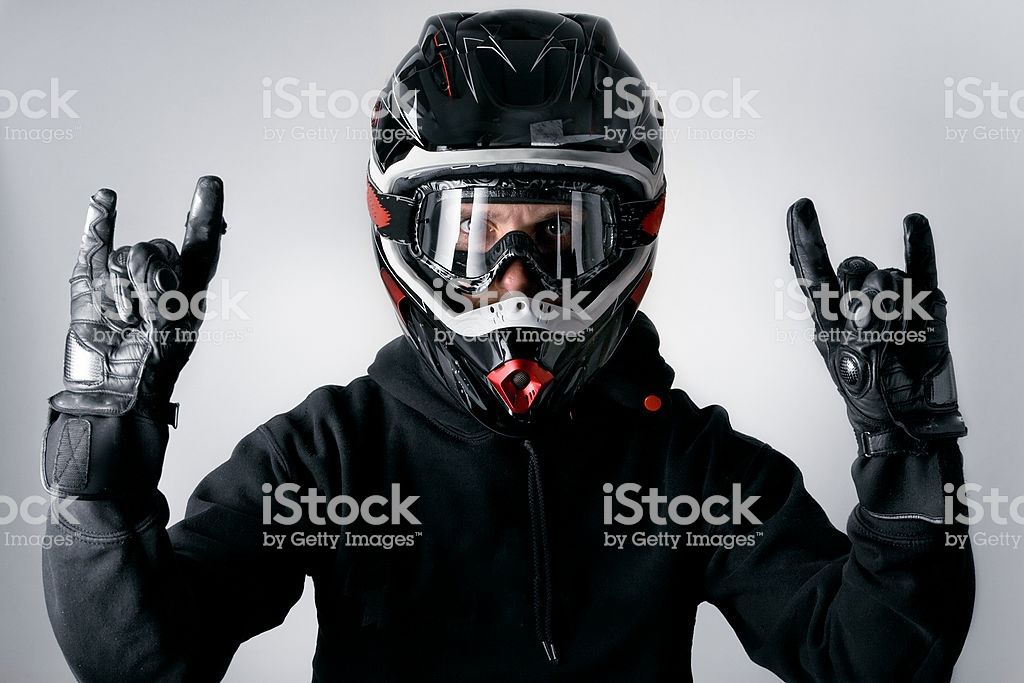helmet: (356, 15, 659, 414)
